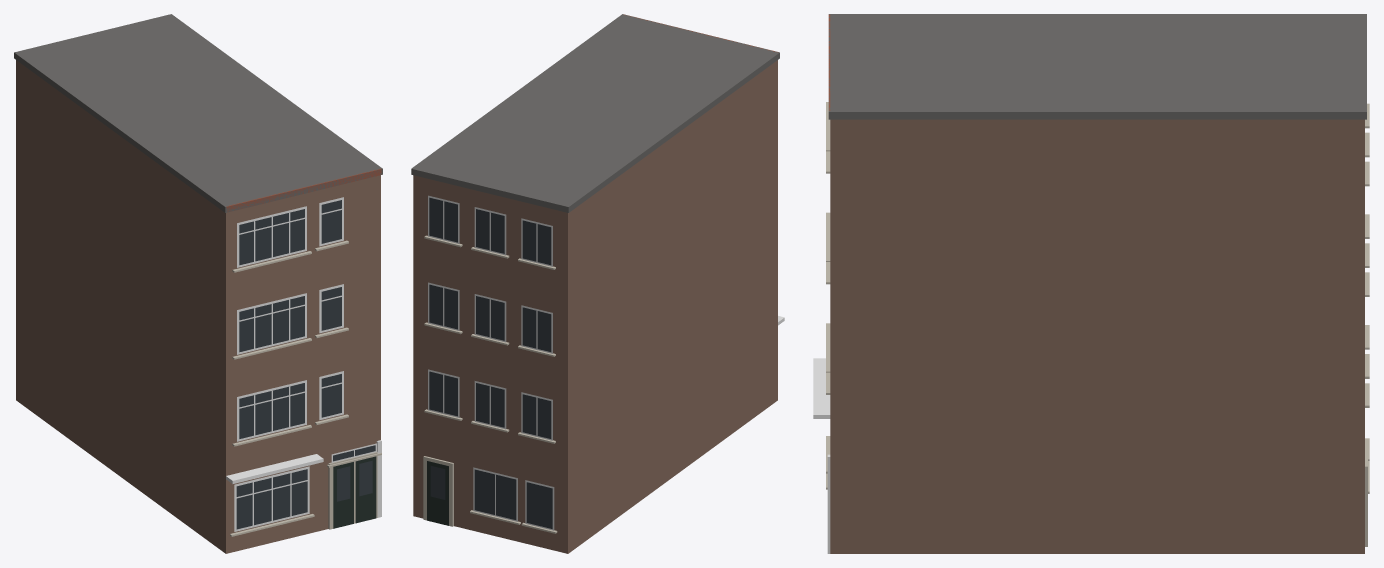
File: we-or-wide__brown__4__flat__long__solid__f0d1.glb
3 views of the same model, side by side, from view 1: azimuth 30°, elevation 25°; view 2: azimuth 150°, elevation 25°; view 3: azimuth 270°, elevation 25° (orthographic). The views are drawn at different scales.
Parts seen in each view (by area): view 1: we-or-wide__brown__4__flat__long__solid__f0d1; view 2: we-or-wide__brown__4__flat__long__solid__f0d1; view 3: we-or-wide__brown__4__flat__long__solid__f0d1.
Part boxes in pixels (x1,y1,x2,y2): we-or-wide__brown__4__flat__long__solid__f0d1: (14,14,382,553); we-or-wide__brown__4__flat__long__solid__f0d1: (411,14,784,553); we-or-wide__brown__4__flat__long__solid__f0d1: (813,14,1369,553).
Bounding box in the file's own units: 6.07 × 12.8 × 14.58.
